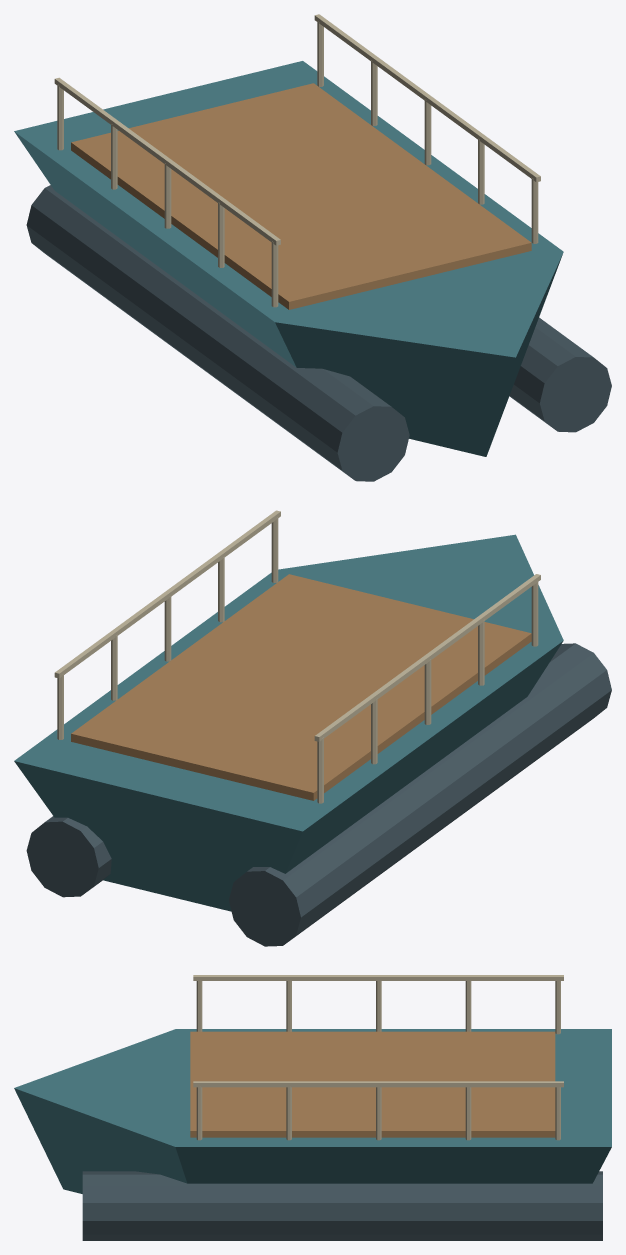
The model's file is vessel_pontoon.glb.
The picture shows the model from 3 angles, top to bottom: view 1: azimuth 30°, elevation 25°; view 2: azimuth 150°, elevation 25°; view 3: azimuth 270°, elevation 25°; orthographic projection. The views are drawn at different scales.
Visible parts, largest first — view 1: vessel_pontoon; view 2: vessel_pontoon; view 3: vessel_pontoon.
Boxes of the visible parts, left/top/right/bottom form: vessel_pontoon: left=14, top=14, right=611, bottom=481; vessel_pontoon: left=14, top=510, right=611, bottom=946; vessel_pontoon: left=14, top=975, right=611, bottom=1240.
Size of the model in its own units: 2.8 by 1.85 by 6.
